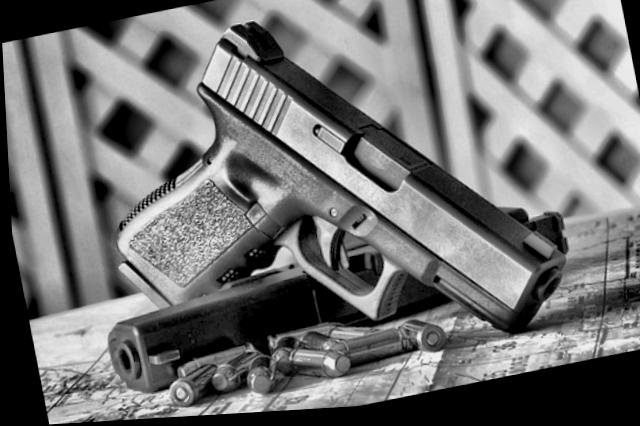pistol: (72, 0, 574, 413), (86, 200, 578, 400)
